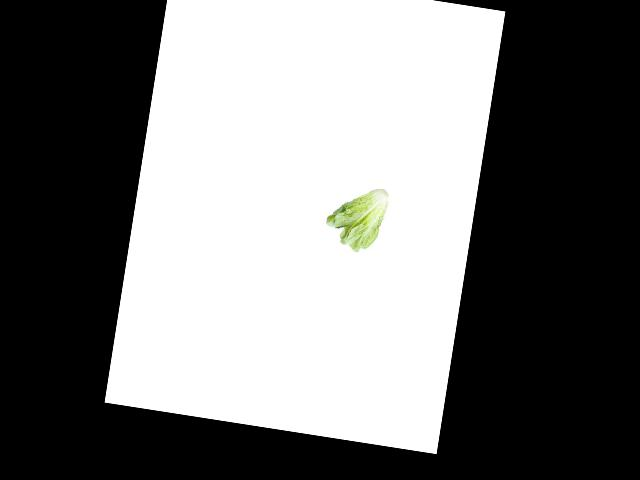lettuce: (319, 177, 396, 256)
